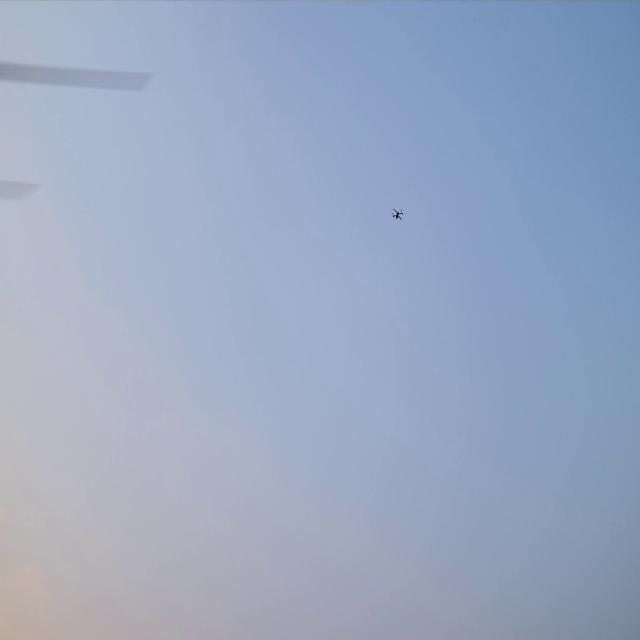UAV: (391, 208, 403, 220)
